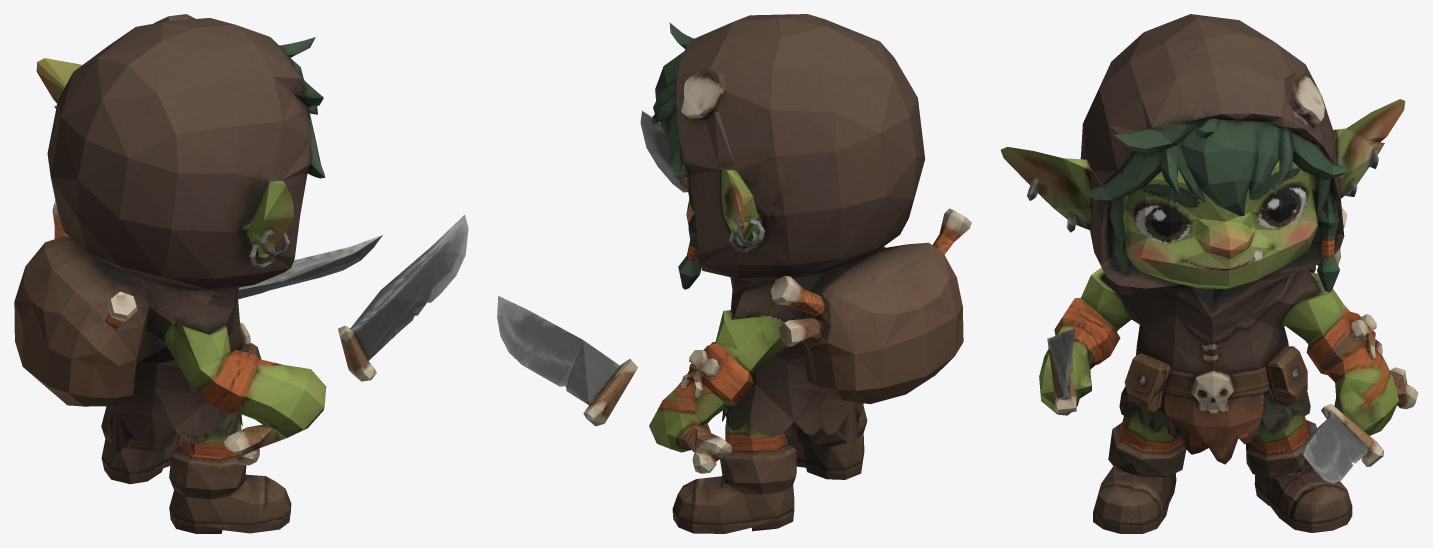
Rendered from goblin.glb.
The picture shows the model from 3 angles, left to right: view 1: azimuth 30°, elevation 25°; view 2: azimuth 150°, elevation 25°; view 3: azimuth 270°, elevation 25°; orthographic projection.
Visible parts, largest first — view 1: tripo_node_aec742d5-55da-441b-beeb-02465408d66a; view 2: tripo_node_aec742d5-55da-441b-beeb-02465408d66a; view 3: tripo_node_aec742d5-55da-441b-beeb-02465408d66a.
Part boxes in pixels (x1,y1,x2,y2): tripo_node_aec742d5-55da-441b-beeb-02465408d66a: (14,14,468,533); tripo_node_aec742d5-55da-441b-beeb-02465408d66a: (497,14,971,533); tripo_node_aec742d5-55da-441b-beeb-02465408d66a: (1000,14,1418,533).
Bounding box in the file's own units: 0.8887 × 0.998 × 0.8027.
Materials: 1 (1 with a texture image).
